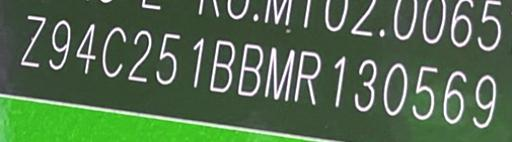letter: (263, 46, 295, 102), (410, 63, 438, 122), (236, 41, 264, 99), (154, 30, 182, 86), (208, 37, 236, 93), (294, 50, 322, 106), (18, 13, 46, 68), (381, 61, 409, 116), (471, 72, 497, 131), (126, 28, 152, 83), (46, 18, 72, 72), (442, 67, 466, 125), (74, 21, 98, 74), (102, 26, 126, 79), (354, 57, 376, 112), (189, 35, 205, 90), (332, 53, 346, 107)
